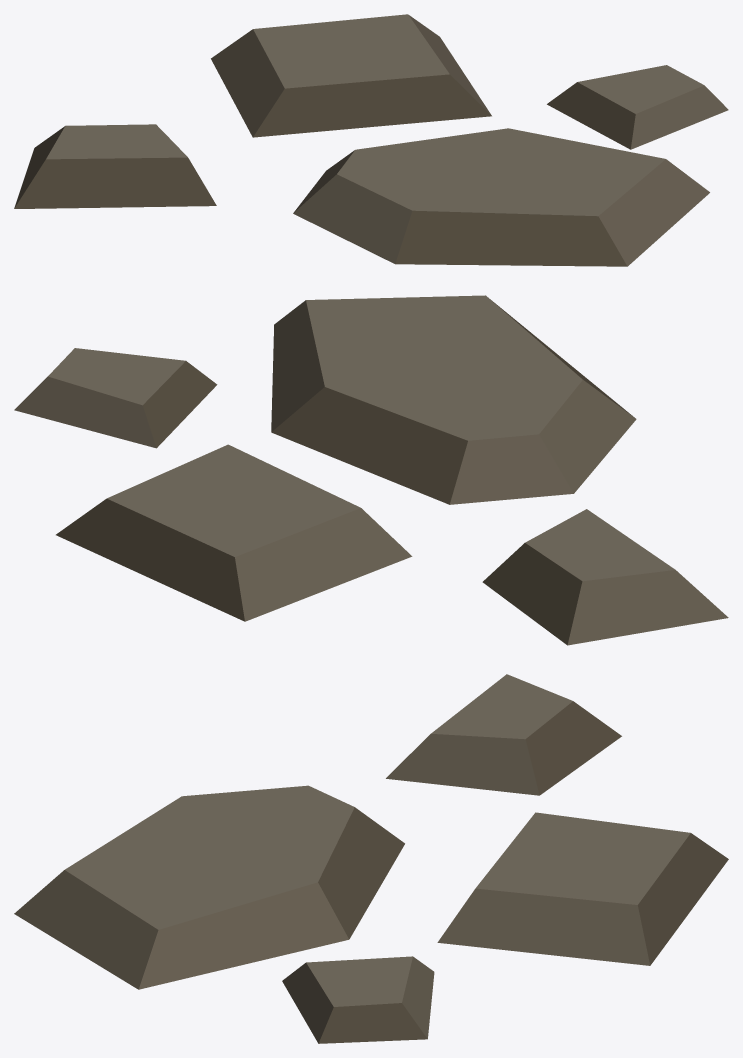
The model's file is SF_Env_Stones_03.FBX.
3 renders of one model, top to bottom at view 1: azimuth 30°, elevation 25°; view 2: azimuth 150°, elevation 25°; view 3: azimuth 270°, elevation 25°, orthographic. The views are drawn at different scales.
Parts seen in each view (by area): view 1: SF_Env_Stones_03_Elements3, SF_Env_Stones_03_Elements1, SF_Env_Stones_03_Elements2, SF_Env_Stones_03_Elements4; view 2: SF_Env_Stones_03_Elements3, SF_Env_Stones_03_Elements1, SF_Env_Stones_03_Elements2, SF_Env_Stones_03_Elements4; view 3: SF_Env_Stones_03_Elements3, SF_Env_Stones_03_Elements1, SF_Env_Stones_03_Elements2, SF_Env_Stones_03_Elements4.
Boxes of the visible parts, x1,y1,x2,y2 form: SF_Env_Stones_03_Elements3: [293, 128, 709, 266]; SF_Env_Stones_03_Elements1: [211, 14, 491, 137]; SF_Env_Stones_03_Elements2: [14, 124, 216, 208]; SF_Env_Stones_03_Elements4: [547, 65, 728, 149]; SF_Env_Stones_03_Elements3: [271, 295, 636, 504]; SF_Env_Stones_03_Elements1: [56, 444, 412, 621]; SF_Env_Stones_03_Elements2: [482, 509, 728, 645]; SF_Env_Stones_03_Elements4: [14, 348, 217, 448]; SF_Env_Stones_03_Elements3: [14, 785, 404, 989]; SF_Env_Stones_03_Elements1: [437, 812, 728, 965]; SF_Env_Stones_03_Elements2: [386, 674, 621, 795]; SF_Env_Stones_03_Elements4: [282, 956, 434, 1043].
Bounding box in the file's own units: 5.95 × 0.3187 × 5.13.
